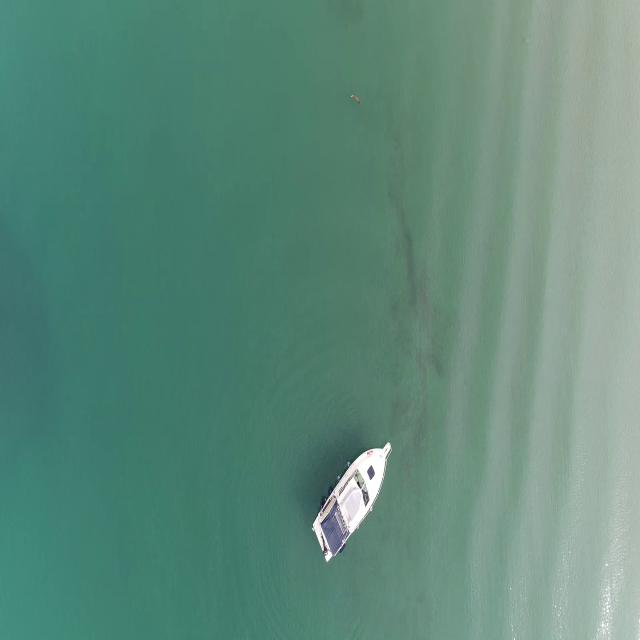boat: (313, 437, 391, 569)
wood: (350, 92, 362, 106)
